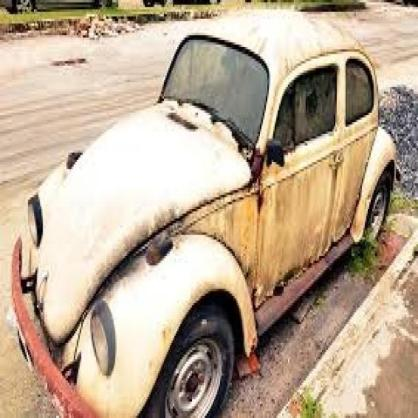car: (13, 10, 402, 418)
